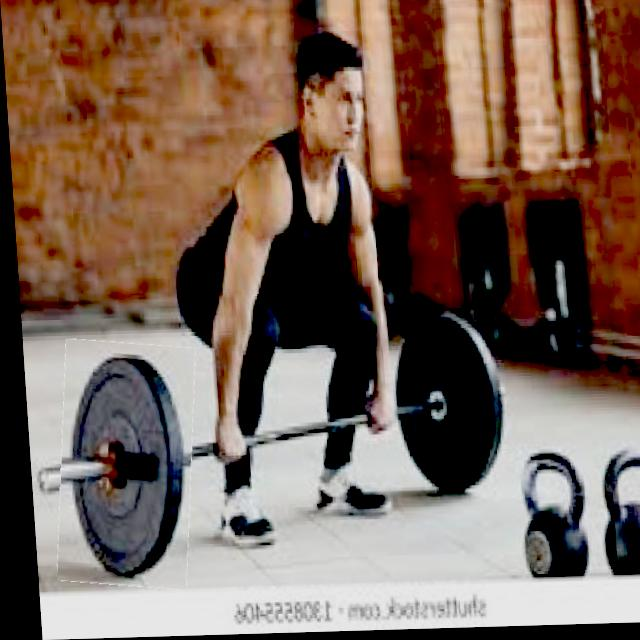barbell: (44, 340, 198, 592)
